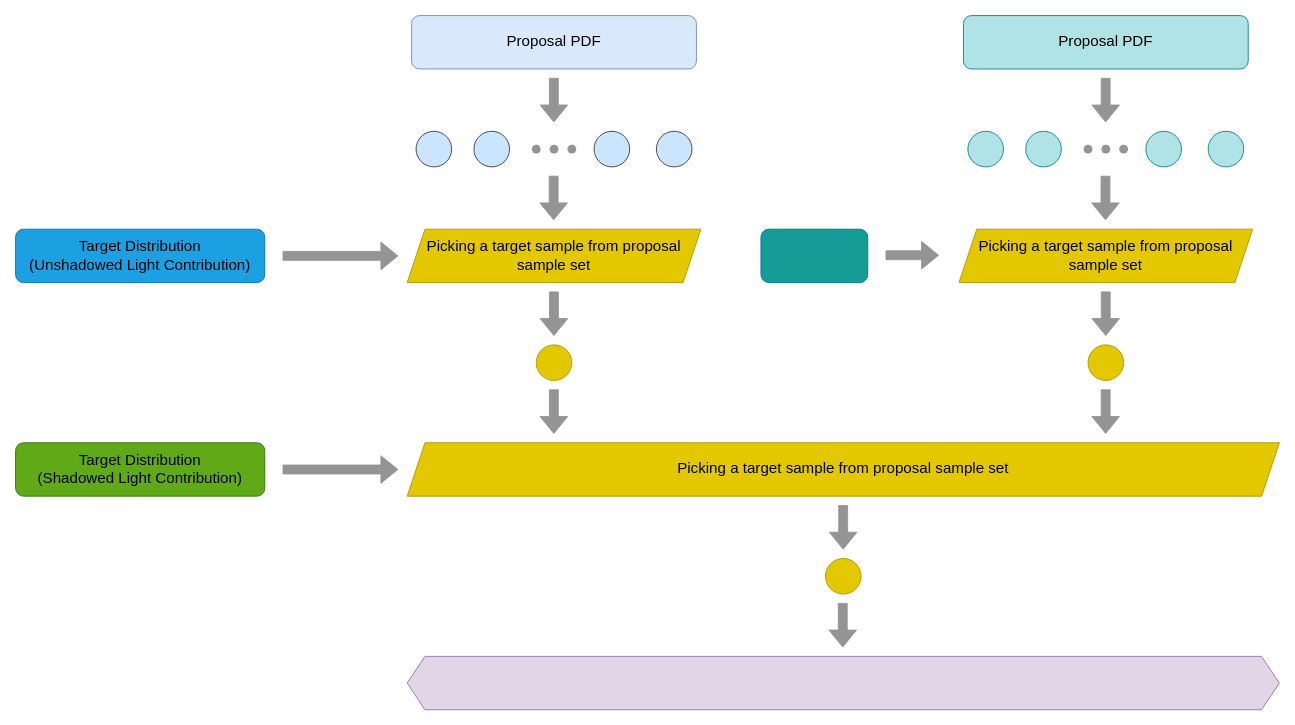
Some shapes in this 1295 by 725 pixel diagram are drawn without their labels. Here are the shapes that lost their labels. From the top down, the centre of each, then its label:
At (x=814, y=255): "Target Distribution".
At (x=842, y=682): "RIS Estimator".
